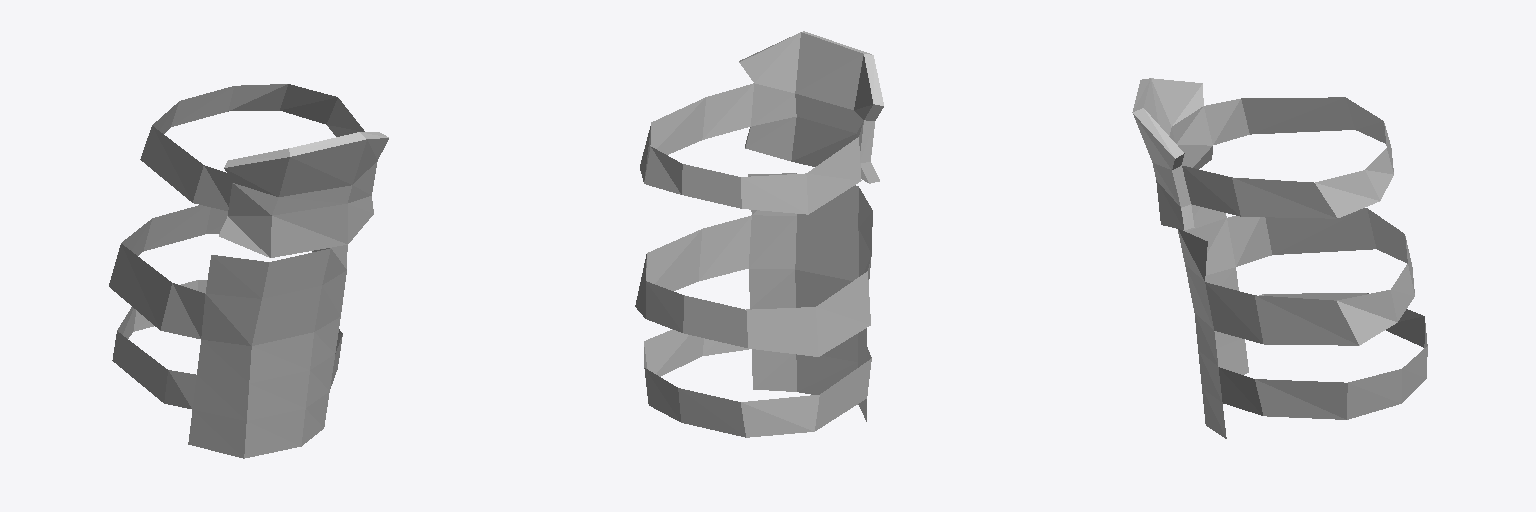
The model's file is LAS_1_Lower-leg_R.obj.
3 renders of one model, left to right at view 1: azimuth 30°, elevation 25°; view 2: azimuth 150°, elevation 25°; view 3: azimuth 270°, elevation 25°, orthographic.
Parts seen in each view (by area): view 1: Knight.024_proxy741.obj.021; view 2: Knight.024_proxy741.obj.021; view 3: Knight.024_proxy741.obj.021.
Part boxes in pixels (x1,y1,x2,y2): Knight.024_proxy741.obj.021: (109, 84, 388, 458); Knight.024_proxy741.obj.021: (635, 31, 883, 437); Knight.024_proxy741.obj.021: (1132, 78, 1427, 438).
Size of the model in its own units: 0.1969 by 0.3129 by 0.2532.